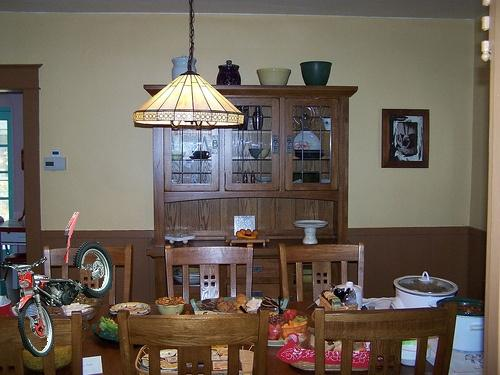tampered: (1, 213, 113, 357)
